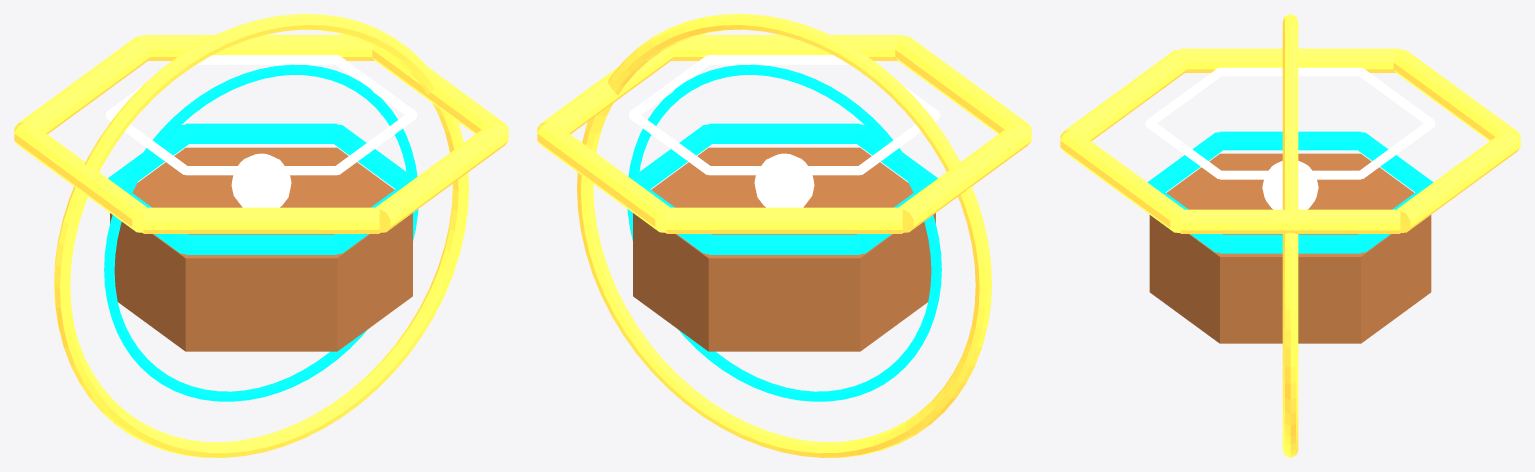
File: hex_pulser.glb
The picture shows the model from 3 angles, left to right: view 1: azimuth 30°, elevation 25°; view 2: azimuth 150°, elevation 25°; view 3: azimuth 270°, elevation 25°; orthographic projection. The views are drawn at different scales.
Visible parts, largest first — view 1: HexPulserDarkHexCore, HexPulserWarningRing, HexPulserPulseRing, Hex_PulserReadabilityHexRoute3, Hex_PulserReadabilityHexRoute4, Hex_PulserReadabilityHexRoute2, Hex_PulserReadabilityHexRoute0, Hex_PulserReadabilityHexRoute1, HexPulserCyanEdge3, HexPulserCyanEdge0, Hex_PulserReadabilityHexRoute5, HexPulserHotCenter (+9 smaller); view 2: HexPulserDarkHexCore, HexPulserWarningRing, HexPulserPulseRing, Hex_PulserReadabilityHexRoute1, Hex_PulserReadabilityHexRoute0, Hex_PulserReadabilityHexRoute2, Hex_PulserReadabilityHexRoute4, Hex_PulserReadabilityHexRoute3, HexPulserCyanEdge1, HexPulserCyanEdge4, Hex_PulserReadabilityHexRoute5, HexPulserHotCenter (+9 smaller); view 3: HexPulserDarkHexCore, HexPulserWarningRing, Hex_PulserReadabilityHexRoute5, Hex_PulserReadabilityHexRoute2, Hex_PulserReadabilityHexRoute0, Hex_PulserReadabilityHexRoute4, Hex_PulserReadabilityHexRoute1, Hex_PulserReadabilityHexRoute3, HexPulserCyanEdge5, HexPulserCyanEdge2, HexPulserCyanEdge1, HexPulserCyanEdge3 (+9 smaller).
Boxes of the visible parts, bbox=[...] form: HexPulserDarkHexCore: bbox=[110, 147, 412, 351]; HexPulserWarningRing: bbox=[54, 14, 468, 457]; HexPulserPulseRing: bbox=[104, 64, 418, 401]; Hex_PulserReadabilityHexRoute3: bbox=[143, 207, 379, 233]; Hex_PulserReadabilityHexRoute4: bbox=[375, 122, 508, 232]; Hex_PulserReadabilityHexRoute2: bbox=[14, 122, 147, 232]; Hex_PulserReadabilityHexRoute0: bbox=[143, 35, 374, 60]; Hex_PulserReadabilityHexRoute1: bbox=[14, 36, 150, 134]; HexPulserCyanEdge3: bbox=[185, 234, 337, 254]; HexPulserCyanEdge0: bbox=[185, 123, 337, 143]; Hex_PulserReadabilityHexRoute5: bbox=[372, 46, 508, 134]; HexPulserHotCenter: bbox=[231, 153, 291, 207]; HexPulserDarkHexCore: bbox=[633, 147, 935, 351]; HexPulserWarningRing: bbox=[577, 14, 991, 457]; HexPulserPulseRing: bbox=[627, 64, 941, 401]; Hex_PulserReadabilityHexRoute1: bbox=[666, 207, 902, 233]; Hex_PulserReadabilityHexRoute0: bbox=[537, 122, 670, 232]; Hex_PulserReadabilityHexRoute2: bbox=[898, 122, 1031, 232]; Hex_PulserReadabilityHexRoute4: bbox=[671, 35, 902, 60]; Hex_PulserReadabilityHexRoute3: bbox=[895, 36, 1031, 134]; HexPulserCyanEdge1: bbox=[708, 234, 860, 254]; HexPulserCyanEdge4: bbox=[708, 123, 860, 143]; Hex_PulserReadabilityHexRoute5: bbox=[537, 46, 673, 134]; HexPulserHotCenter: bbox=[754, 153, 814, 207]; HexPulserDarkHexCore: bbox=[1149, 153, 1431, 343]; HexPulserWarningRing: bbox=[1282, 14, 1298, 457]; Hex_PulserReadabilityHexRoute5: bbox=[1180, 209, 1400, 233]; Hex_PulserReadabilityHexRoute2: bbox=[1180, 48, 1400, 72]; Hex_PulserReadabilityHexRoute0: bbox=[1396, 130, 1520, 232]; Hex_PulserReadabilityHexRoute4: bbox=[1060, 130, 1184, 232]; Hex_PulserReadabilityHexRoute1: bbox=[1393, 49, 1520, 141]; Hex_PulserReadabilityHexRoute3: bbox=[1060, 49, 1187, 141]; HexPulserCyanEdge5: bbox=[1220, 234, 1360, 253]; HexPulserCyanEdge2: bbox=[1220, 131, 1360, 150]; HexPulserCyanEdge1: bbox=[1355, 132, 1433, 192]; HexPulserCyanEdge3: bbox=[1147, 132, 1225, 192].
Size of the model in its own units: 1.77 by 1.77 by 1.83.
